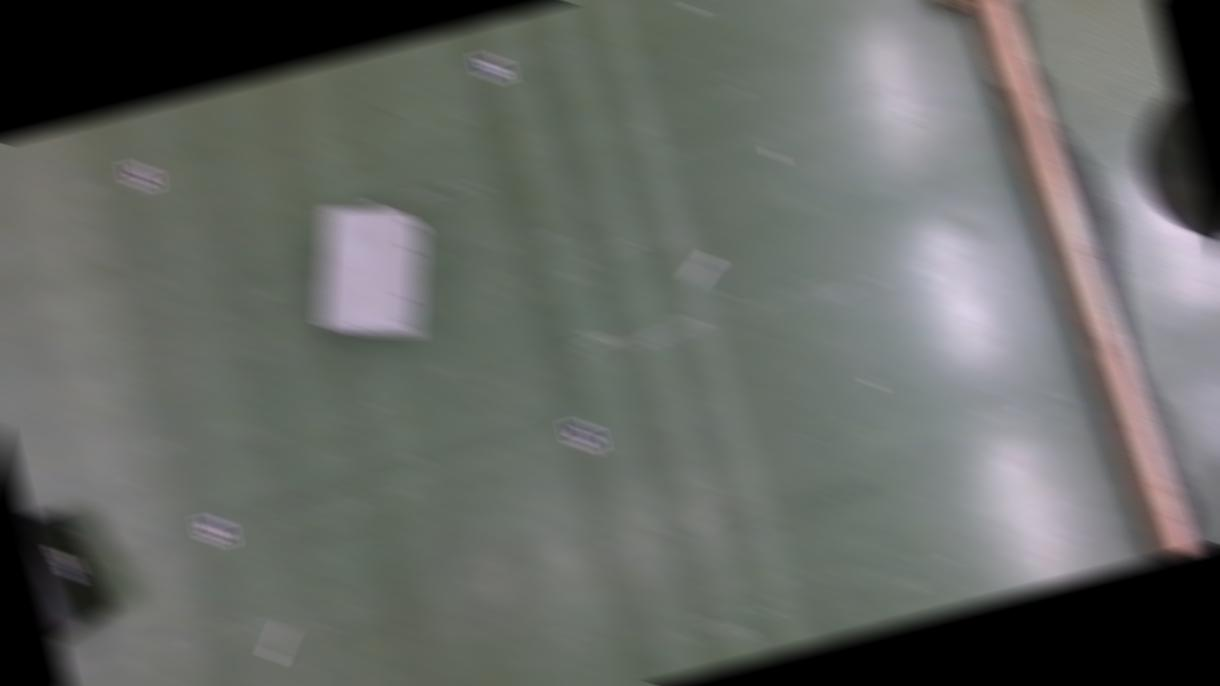probes: (260, 622, 300, 664), (678, 251, 724, 287)
rako: (290, 190, 450, 359), (20, 500, 124, 652)
